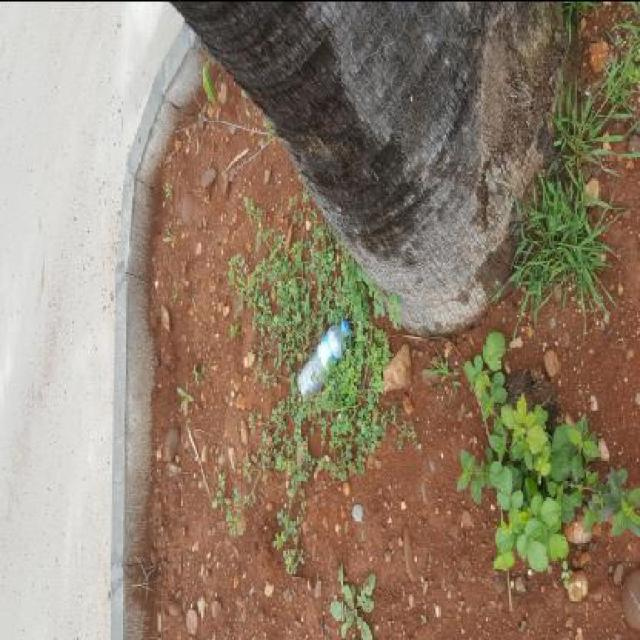plastic: (240, 298, 322, 350)
